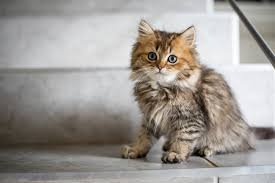cat: (119, 15, 258, 163)
